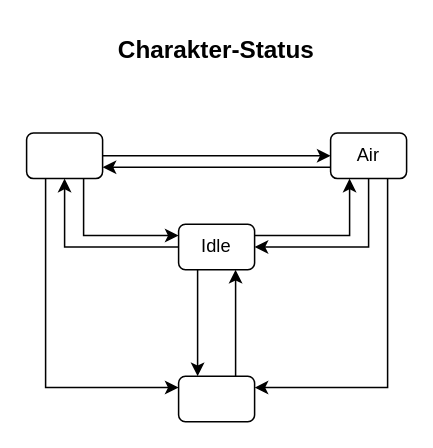
The diagram is 433 pixels wide and 448 high, and some of its shapes have lost their labels. The centre of each missing label's shape, as x and y in pixels:
Inactive: (216,398)
Walk: (64,155)
